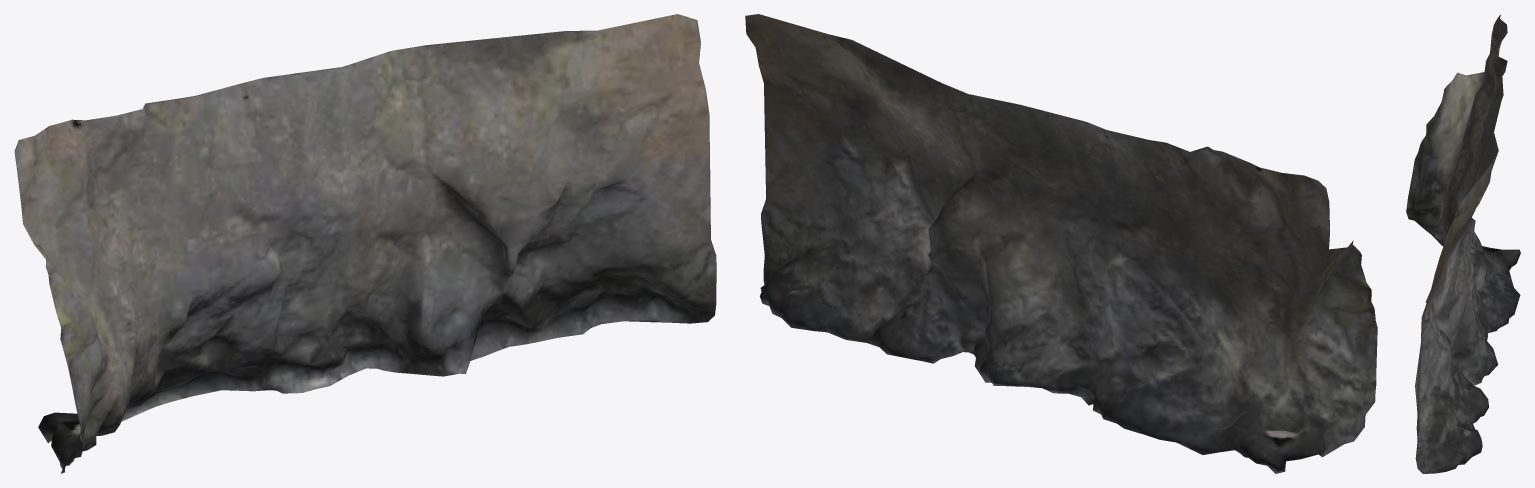
The model's file is bw-rockface-b.lod0.glb.
The picture shows the model from 3 angles, left to right: view 1: azimuth 30°, elevation 25°; view 2: azimuth 150°, elevation 25°; view 3: azimuth 270°, elevation 25°; orthographic projection. The views are drawn at different scales.
Visible parts, largest first — view 1: Object_2; view 2: Object_2; view 3: Object_2.
Boxes of the visible parts, x1=… form: Object_2: x1=14, y1=14, x2=716, y2=473; Object_2: x1=745, y1=14, x2=1377, y2=473; Object_2: x1=1406, y1=14, x2=1520, y2=473.
Size of the model in its own units: 14 by 6.53 by 2.83.
1 material, 1 textured.
